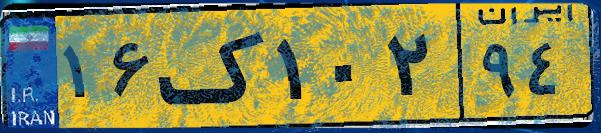0: (330, 28, 385, 110)
1: (270, 28, 330, 110), (57, 26, 110, 100)
2: (385, 28, 445, 110)
4: (525, 38, 570, 115)
6: (110, 28, 158, 98)
9: (475, 38, 525, 113)
ک: (158, 12, 270, 120)
